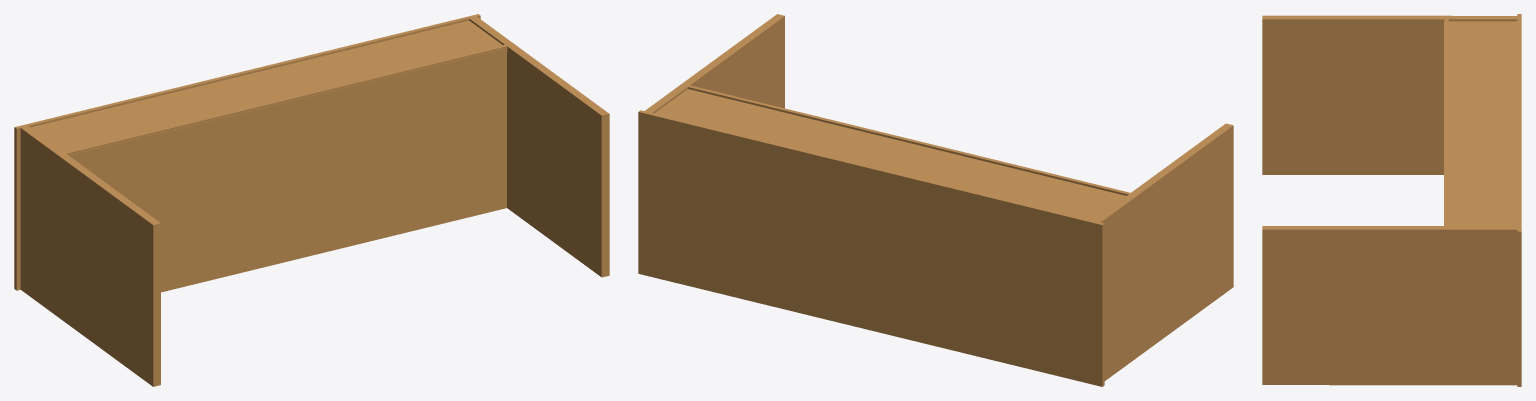
File: banlamviec.fbx
3 renders of one model, left to right at view 1: azimuth 30°, elevation 25°; view 2: azimuth 150°, elevation 25°; view 3: azimuth 270°, elevation 25°, orthographic. The views are drawn at different scales.
Parts seen in each view (by area): view 1: imagetostl_mesh2, imagetostl_mesh3, imagetostl_mesh4, imagetostl_mesh1, imagetostl_mesh0; view 2: imagetostl_mesh0, imagetostl_mesh3, imagetostl_mesh1, imagetostl_mesh4, imagetostl_mesh2; view 3: imagetostl_mesh4, imagetostl_mesh3, imagetostl_mesh1, imagetostl_mesh0, imagetostl_mesh2.
Boxes of the visible parts, x1=… form: imagetostl_mesh2: x1=62, y1=44, x2=509, y2=292; imagetostl_mesh3: x1=20, y1=126, x2=160, y2=386; imagetostl_mesh4: x1=469, y1=16, x2=609, y2=277; imagetostl_mesh1: x1=31, y1=20, x2=507, y2=158; imagetostl_mesh0: x1=14, y1=14, x2=480, y2=290; imagetostl_mesh0: x1=638, y1=110, x2=1104, y2=386; imagetostl_mesh3: x1=1092, y1=123, x2=1233, y2=380; imagetostl_mesh1: x1=654, y1=89, x2=1125, y2=220; imagetostl_mesh4: x1=644, y1=14, x2=784, y2=113; imagetostl_mesh2: x1=685, y1=85, x2=1133, y2=195; imagetostl_mesh4: x1=1262, y1=226, x2=1519, y2=385; imagetostl_mesh3: x1=1262, y1=15, x2=1517, y2=174; imagetostl_mesh1: x1=1444, y1=21, x2=1517, y2=225; imagetostl_mesh0: x1=1517, y1=14, x2=1521, y2=386; imagetostl_mesh2: x1=1444, y1=18, x2=1448, y2=227.
Size of the model in its own units: 600 by 200 by 303.
